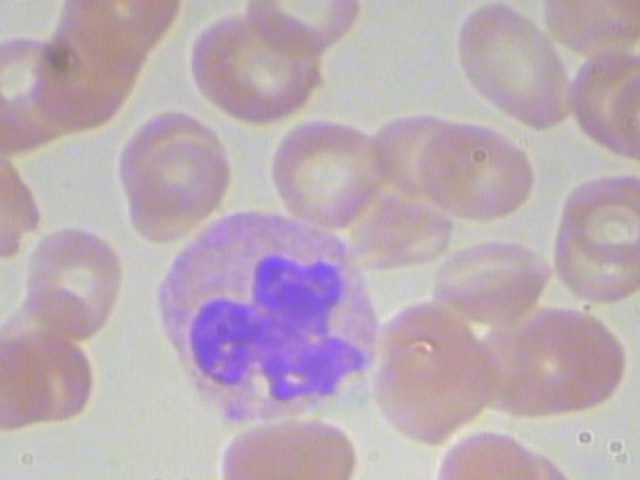RBC: (183, 1, 334, 128), (454, 0, 587, 136), (260, 116, 390, 234), (16, 220, 134, 346), (119, 133, 232, 245), (422, 120, 542, 222), (422, 235, 555, 322), (206, 415, 363, 480), (553, 174, 640, 277), (240, 0, 368, 57), (609, 46, 640, 171)
WBC: (148, 207, 389, 430)
